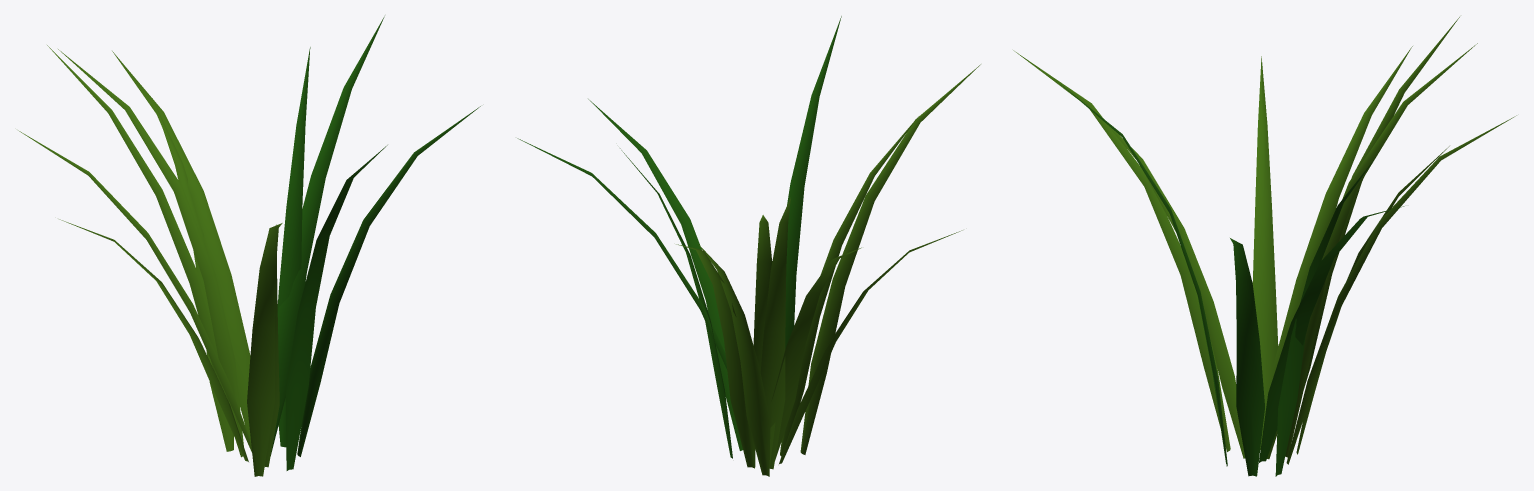
The model's file is Wheat_2.obj.
3 renders of one model, left to right at view 1: azimuth 30°, elevation 25°; view 2: azimuth 150°, elevation 25°; view 3: azimuth 270°, elevation 25°, orthographic. The views are drawn at different scales.
Parts seen in each view (by area): view 1: Wheat_2; view 2: Wheat_2; view 3: Wheat_2.
Part boxes in pixels (x1,y1,x2,y2): Wheat_2: [18, 16, 480, 476]; Wheat_2: [517, 16, 980, 476]; Wheat_2: [1013, 17, 1516, 476].
Size of the model in its own units: 0.6762 by 0.603 by 0.7019.
